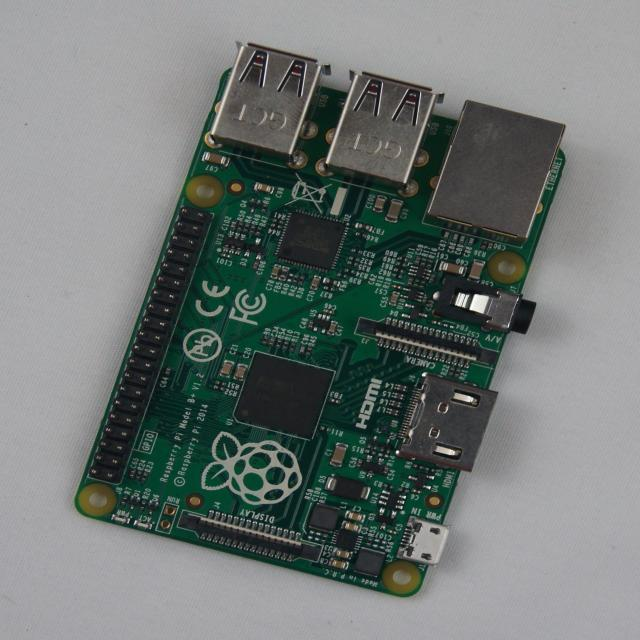Raspberry Pi 1 B-: (75, 43, 565, 597)
